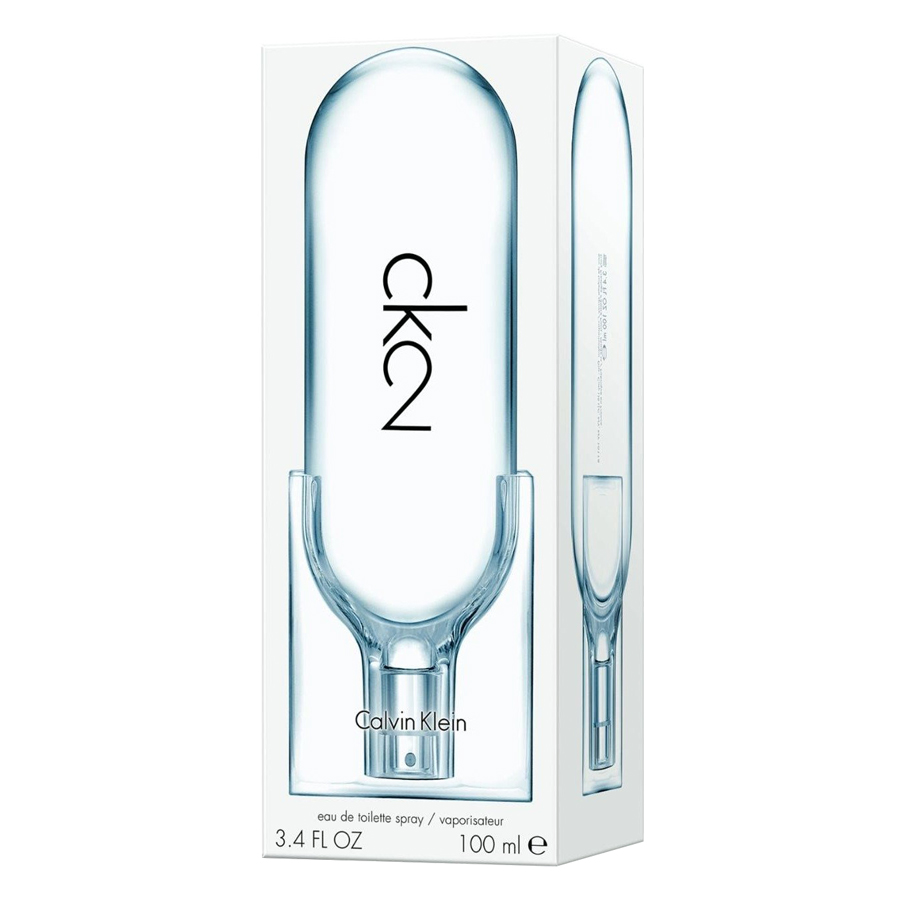Calvin Klein: (350, 704, 473, 735)
